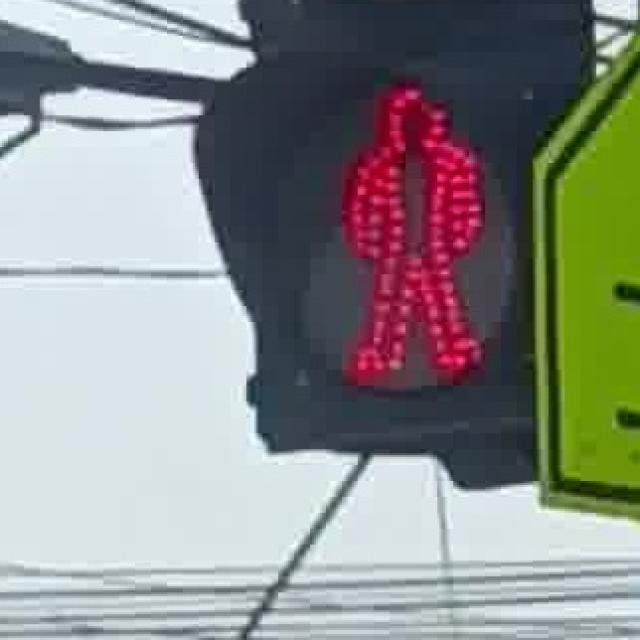red-crossing: (308, 59, 495, 392)
